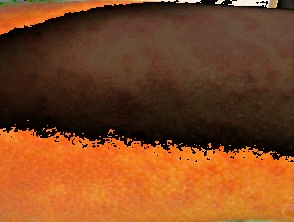SJS-TEN: (0, 0, 294, 181)
